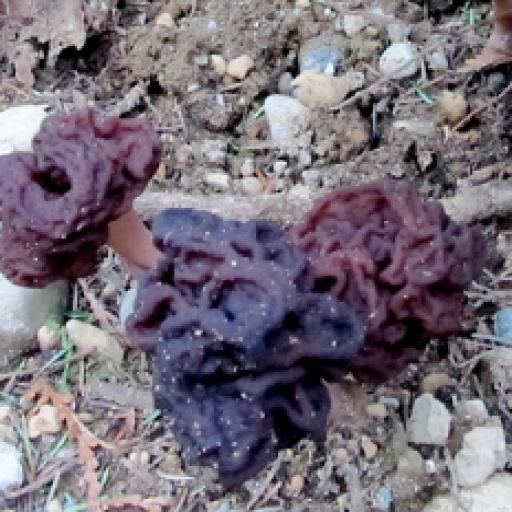mushroom: (73, 154, 401, 502), (0, 110, 161, 286), (1, 0, 1, 1)
